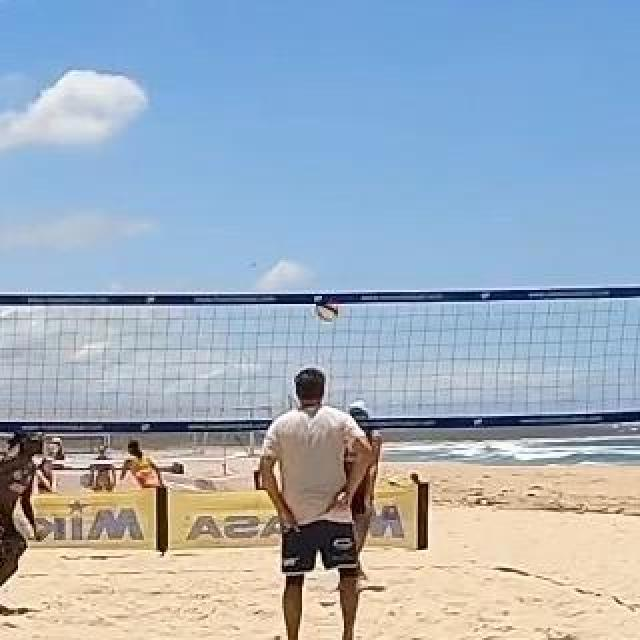volleyball: (316, 302, 338, 324)
